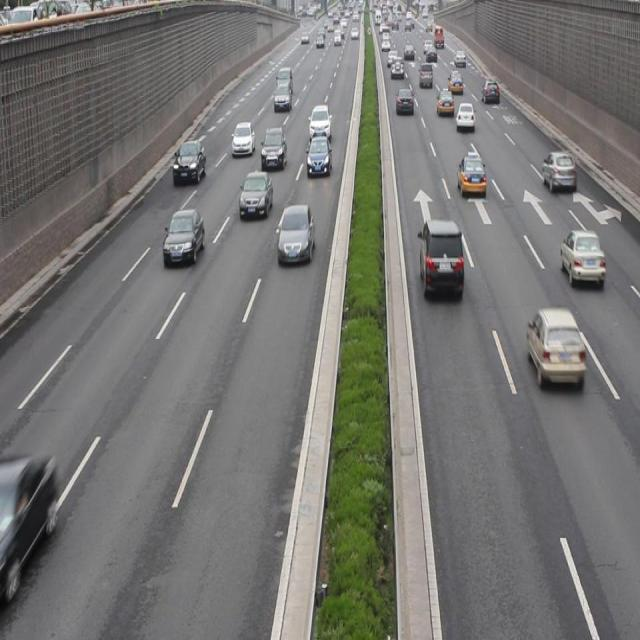car: (526, 307, 584, 395), (417, 221, 463, 302), (558, 227, 602, 286), (162, 210, 203, 262), (278, 208, 314, 264), (238, 170, 271, 220), (172, 143, 206, 185), (542, 153, 575, 192), (454, 155, 484, 196), (261, 127, 287, 170), (305, 137, 332, 177), (308, 104, 331, 142), (232, 120, 256, 156), (454, 102, 473, 129)
